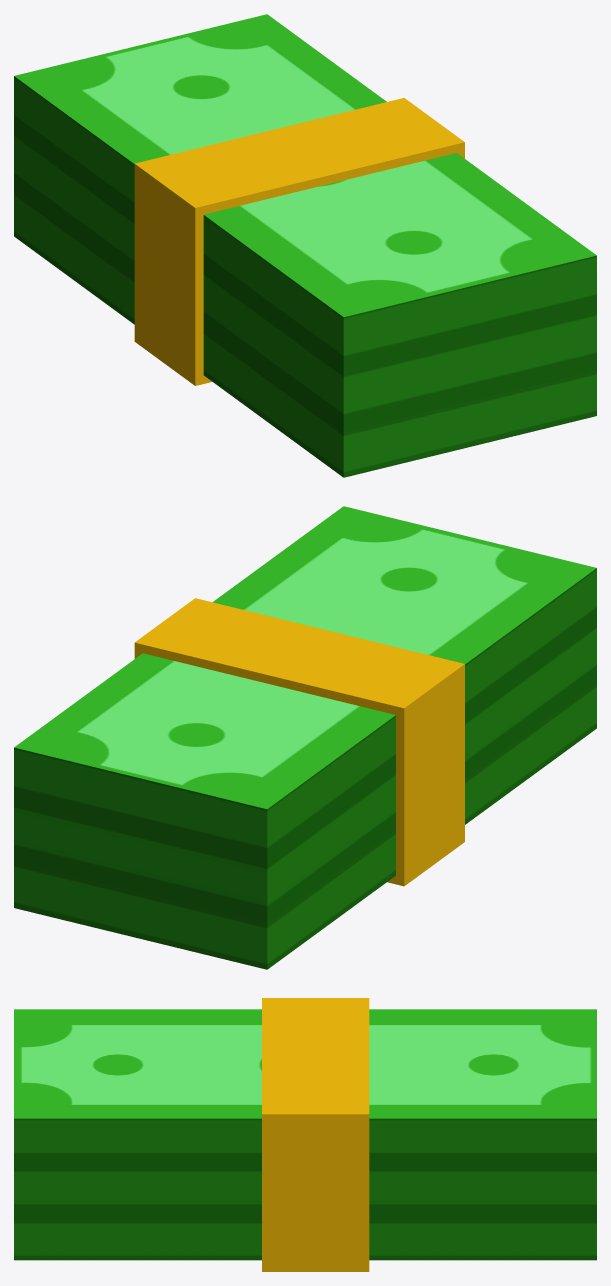
File: money.fbx
3 views of the same model, one above another, from view 1: azimuth 30°, elevation 25°; view 2: azimuth 150°, elevation 25°; view 3: azimuth 270°, elevation 25° (orthographic). The views are drawn at different scales.
Parts seen in each view (by area): view 1: Money; view 2: Money; view 3: Money.
Boxes of the visible parts, x1=… form: Money: x1=14, y1=14, x2=596, y2=477; Money: x1=14, y1=506, x2=596, y2=969; Money: x1=14, y1=998, x2=596, y2=1271.
Bounding box in the file's own units: 30.1 × 18.99 × 63.74.
